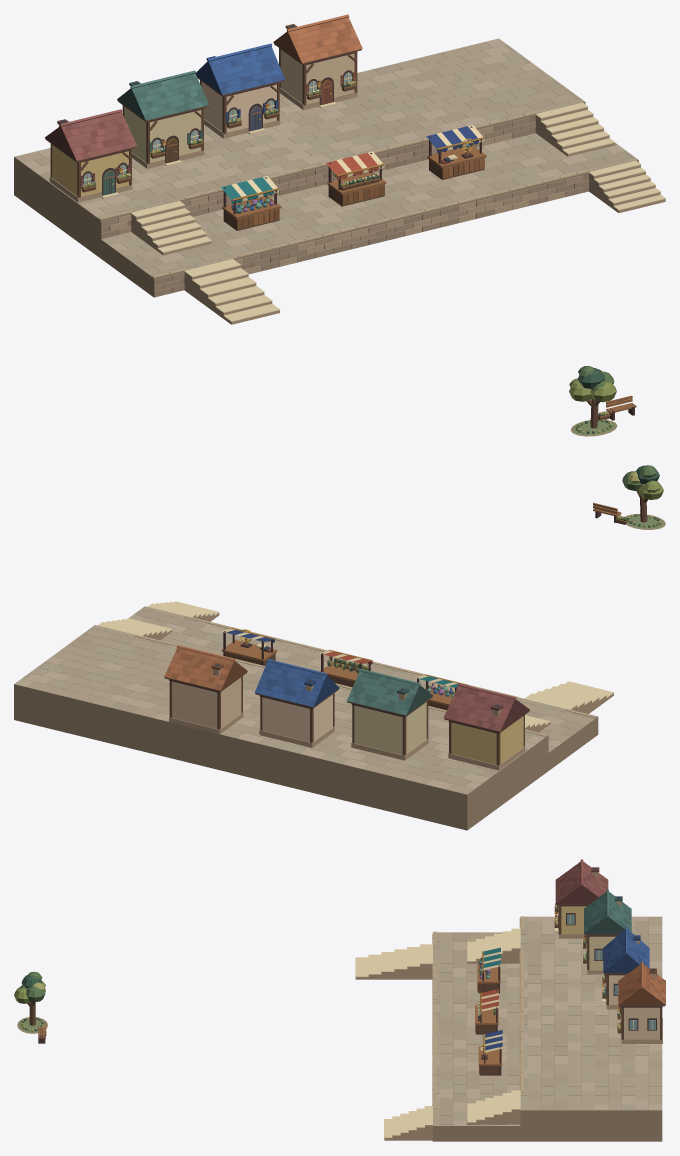
Rendered from terraced-market.glb.
3 renders of one model, top to bottom at view 1: azimuth 30°, elevation 25°; view 2: azimuth 150°, elevation 25°; view 3: azimuth 270°, elevation 25°, orthographic. The views are drawn at different scales.
Parts seen in each view (by area): view 1: residential_terrace, market_terrace, sage_house, amber_house, ochre_house, blue_house, west_lower, west_upper, east_upper, east_lower, Inn_Garden, herbs (+2 smaller); view 2: residential_terrace, market_terrace, sage_house, blue_house, ochre_house, amber_house, Inn_Garden, west_lower, orrery, herbs, east_upper, elixirs (+1 smaller); view 3: residential_terrace, market_terrace, ochre_house, amber_house, sage_house, west_lower, blue_house, east_upper, east_lower, Inn_Garden, west_upper, orrery (+2 smaller).
Part boxes in pixels (left/top/right/bottom): residential_terrace: left=14, top=38, right=585, bottom=258; market_terrace: left=100, top=133, right=639, bottom=297; sage_house: left=117, top=70, right=209, bottom=168; amber_house: left=45, top=109, right=137, bottom=202; ochre_house: left=273, top=14, right=362, bottom=110; blue_house: left=195, top=43, right=285, bottom=138; west_lower: left=184, top=259, right=280, bottom=324; west_upper: left=130, top=201, right=211, bottom=255; east_upper: left=535, top=102, right=615, bottom=156; east_lower: left=588, top=160, right=665, bottom=212; Inn_Garden: left=569, top=366, right=636, bottom=436; herbs: left=326, top=151, right=386, bottom=206; residential_terrace: left=14, top=625, right=548, bottom=830; market_terrace: left=129, top=606, right=598, bottom=770; sage_house: left=347, top=668, right=432, bottom=760; blue_house: left=254, top=659, right=339, bottom=747; ochre_house: left=164, top=645, right=247, bottom=734; amber_house: left=443, top=683, right=529, bottom=770; Inn_Garden: left=593, top=465, right=665, bottom=529; west_lower: left=524, top=681, right=614, bottom=713; orrery: left=221, top=628, right=277, bottom=665; herbs: left=319, top=649, right=372, bottom=687; east_upper: left=98, top=618, right=172, bottom=640; elixirs: left=414, top=674, right=468, bottom=710; residential_terrace: left=519, top=916, right=662, bottom=1141; market_terrace: left=432, top=931, right=520, bottom=1141; ochre_house: left=617, top=961, right=665, bottom=1043; amber_house: left=554, top=859, right=608, bottom=938; sage_house: left=583, top=889, right=631, bottom=974; west_lower: left=355, top=944, right=432, bottom=979; blue_house: left=602, top=926, right=649, bottom=1009; east_upper: left=467, top=1090, right=520, bottom=1124; east_lower: left=384, top=1106, right=432, bottom=1140; Inn_Garden: left=14, top=971, right=47, bottom=1043; west_upper: left=467, top=928, right=520, bottom=963; orrery: left=478, top=1030, right=502, bottom=1075.
Bounding box in the file's own units: 32.17 × 7.1 × 45.51.
